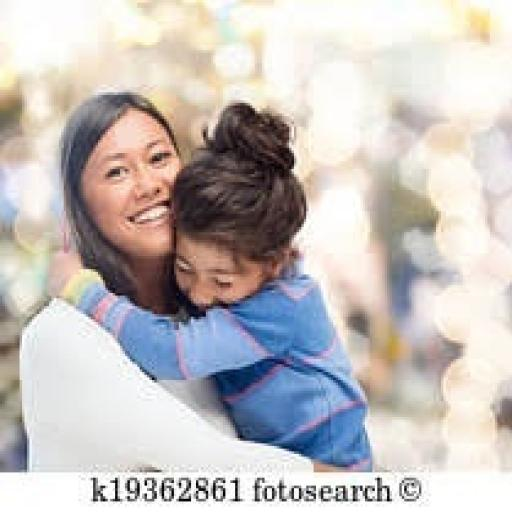hugging: (44, 90, 375, 472)
